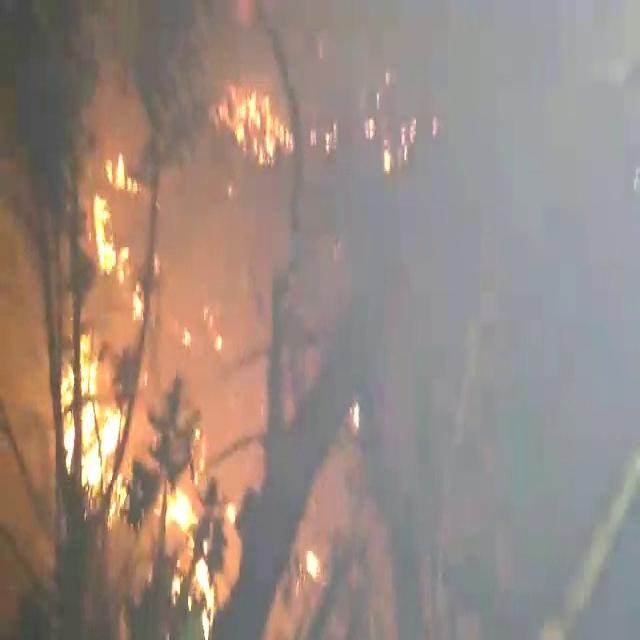Fire: (153, 482, 220, 640), (64, 346, 124, 516), (217, 85, 295, 163), (87, 191, 131, 293), (103, 144, 142, 196)
Smoke: (133, 17, 633, 628)
